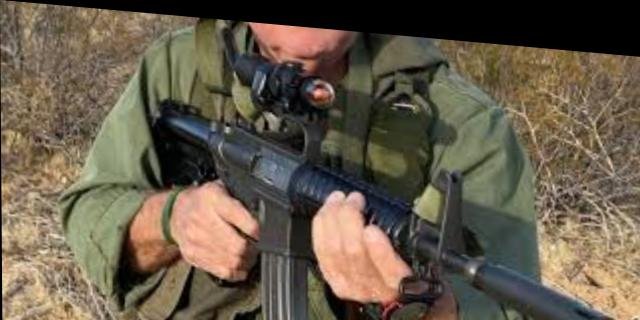other: (79, 12, 535, 320)
